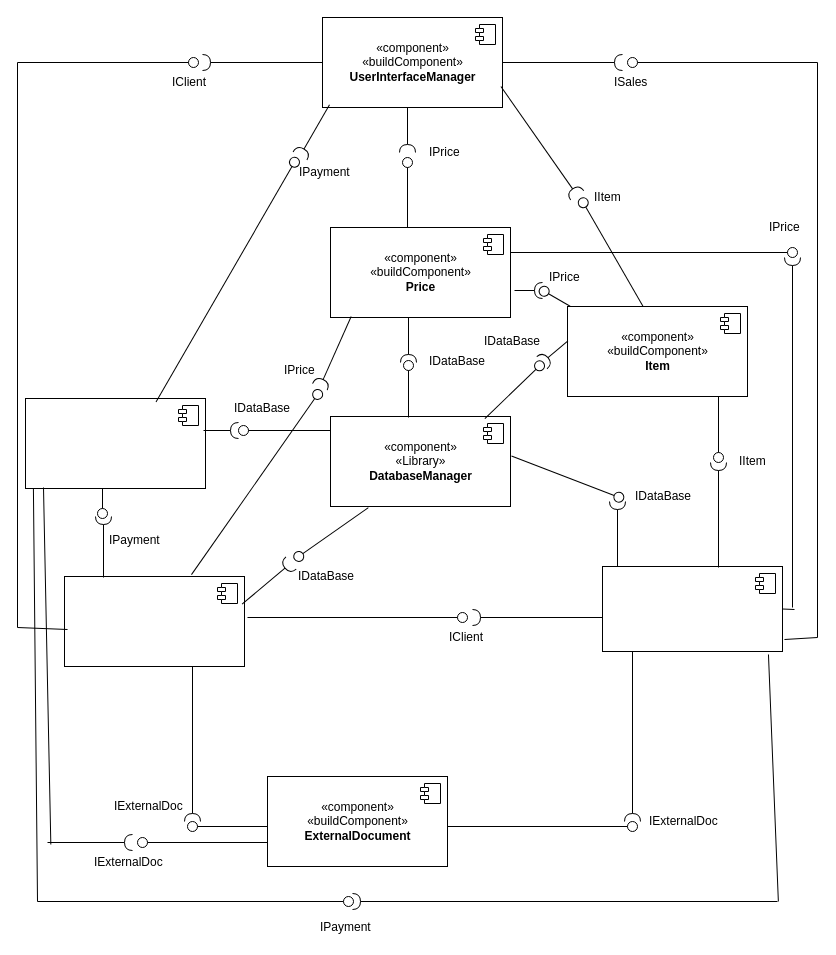
Some shapes in this 836 by 955 pixel diagram are drawn without their labels. The centre of each missing label's shape, as x and y in pixels:
«component» «buildComponent» Client: the point at 154,621
«component» «buildComponent» Payment: the point at 115,443
«component» «buildComponent» SalesManager: the point at 692,609
